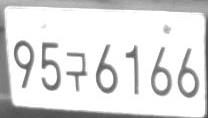1: (122, 45, 147, 95)
5: (40, 42, 61, 91)
6: (95, 43, 118, 93), (149, 46, 172, 96), (177, 48, 200, 98)
9: (12, 39, 35, 88)
구: (65, 51, 87, 92)
